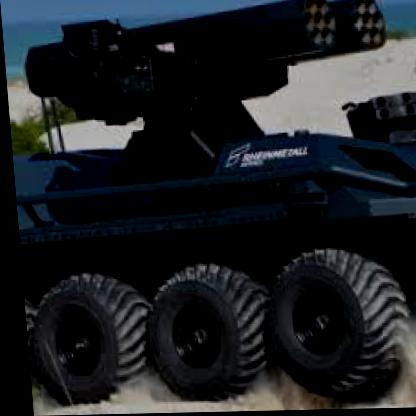UGV: (9, 142, 415, 406)
